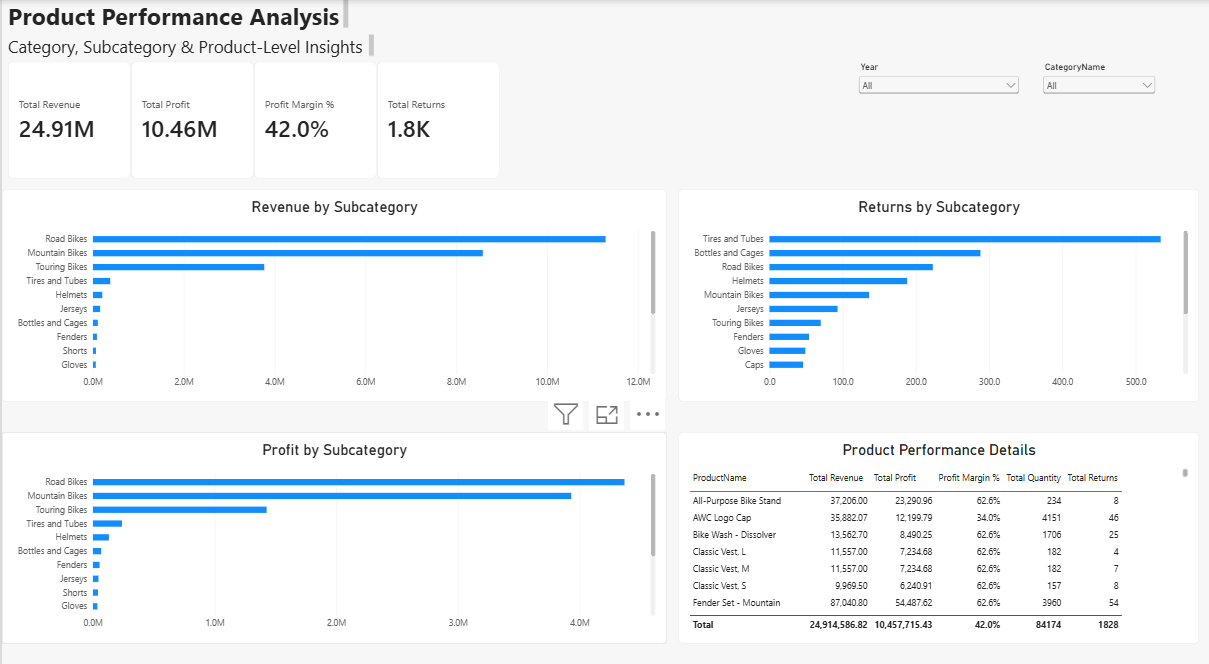

This screenshot's page, from the dashboard's own definition file:
{"tool":"powerbi","page":{"name":"Product Performance","canvas":[1920,1080],"ordinal":2},"visuals":[{"type":"textbox","box":[9.5,0,541.6,54.9],"z":0},{"type":"textbox","box":[9.5,54.9,582.2,42.9],"z":1000},{"type":"cardVisual","fields":{"Data":["_Measures.Total Revenue"]},"box":[9.5,97.8,195.6,186.1],"z":2000},{"type":"cardVisual","fields":{"Data":["_Measures.Total Profit"]},"box":[205.2,97.8,195.6,186.1],"z":3000},{"type":"cardVisual","fields":{"Data":["_Measures.Profit Margin %"]},"box":[400.8,97.8,195.6,186.1],"z":4000},{"type":"cardVisual","fields":{"Data":["_Measures.Total Returns"]},"box":[596.5,97.8,195.6,186.1],"z":5000},{"type":"clusteredBarChart","title":"Revenue by Subcategory","fields":{"Y":["_Measures.Total Revenue"],"Category":["Product_Subcategories.SubcategoryName"]},"box":[0,300.6,1057,338.8],"z":6000},{"type":"clusteredBarChart","title":"Profit by Subcategory","fields":{"Category":["Product_Subcategories.SubcategoryName"],"Y":["_Measures.Total Profit"]},"box":[0,687.1,1057,336.4],"z":7000},{"type":"tableEx","title":"Product Performance Details","fields":{"Values":["Products.ProductName","_Measures.Total Revenue","_Measures.Total Profit","_Measures.Profit Margin %","_Measures.Total Quantity","_Measures.Total Returns"]},"box":[1076,687.1,827.9,336.4],"z":8000},{"type":"slicer","fields":{"Values":["Calendar.Year"]},"box":[1357.6,97.8,264.8,186.1],"z":9000},{"type":"slicer","fields":{"Values":["Product_Categories.CategoryName"]},"box":[1651.1,97.8,188.5,186.1],"z":10000},{"type":"clusteredBarChart","title":"Returns by Subcategory","fields":{"Category":["Product_Subcategories.SubcategoryName"],"Y":["_Measures.Total Returns"]},"box":[1076,300.6,827.9,338.8],"z":11000}]}

Visuals, with their boxes in screenshot pixels (x1, y1, x2, y2), scaled from the page's 1920x1080 canvas onto the 1209x664 screenshot:
textbox: left=6, top=0, right=347, bottom=34
textbox: left=6, top=34, right=373, bottom=60
cardVisual - _Measures.Total Revenue: left=6, top=60, right=129, bottom=175
cardVisual - _Measures.Total Profit: left=129, top=60, right=252, bottom=175
cardVisual - _Measures.Profit Margin %: left=252, top=60, right=376, bottom=175
cardVisual - _Measures.Total Returns: left=376, top=60, right=499, bottom=175
"Revenue by Subcategory" clusteredBarChart: left=0, top=185, right=666, bottom=393
"Profit by Subcategory" clusteredBarChart: left=0, top=422, right=666, bottom=629
"Product Performance Details" tableEx: left=678, top=422, right=1199, bottom=629
slicer - Calendar.Year: left=855, top=60, right=1022, bottom=175
slicer - Product_Categories.CategoryName: left=1040, top=60, right=1158, bottom=175
"Returns by Subcategory" clusteredBarChart: left=678, top=185, right=1199, bottom=393
